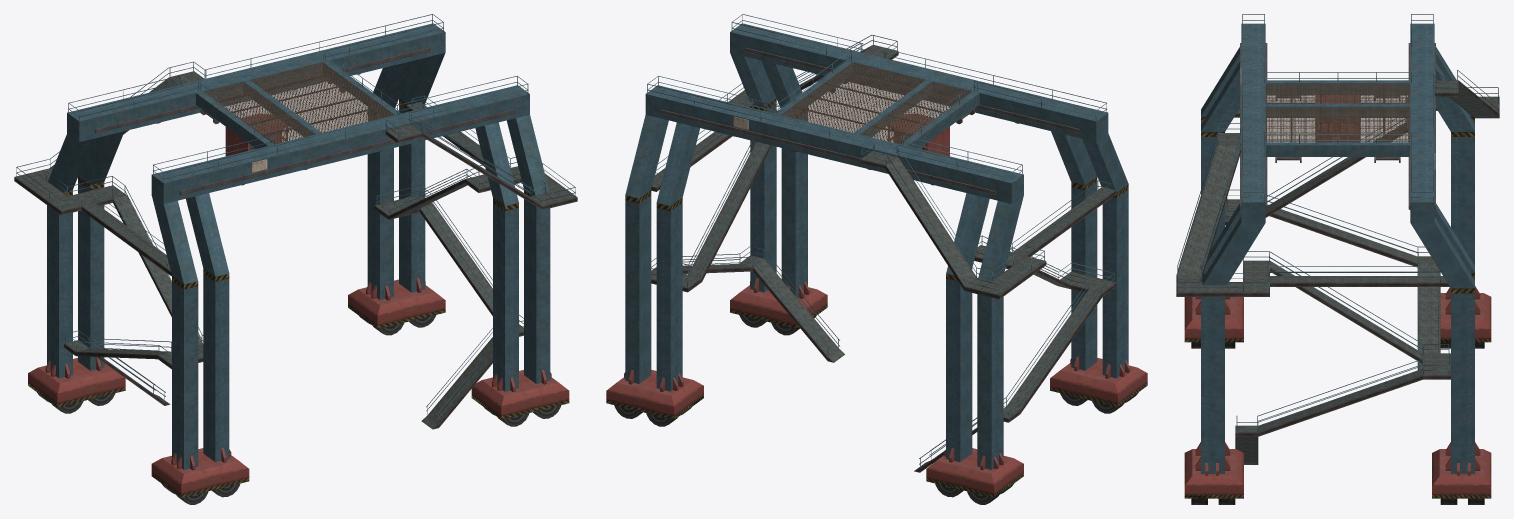
File: Building_Qzj01.glb
The picture shows the model from 3 angles, left to right: view 1: azimuth 30°, elevation 25°; view 2: azimuth 150°, elevation 25°; view 3: azimuth 270°, elevation 25°; orthographic projection.
Visible parts, largest first — view 1: xiutz_qzj_01_0; view 2: xiutz_qzj_01_0; view 3: xiutz_qzj_01_0.
Part boxes in pixels (x1,y1,x2,y2): xiutz_qzj_01_0: (14,14,577,504); xiutz_qzj_01_0: (606,14,1147,504); xiutz_qzj_01_0: (1176,14,1499,504).
Bounding box in the file's own units: 49.64 × 37.68 × 34.62.
Materials: 2 (2 with a texture image).
